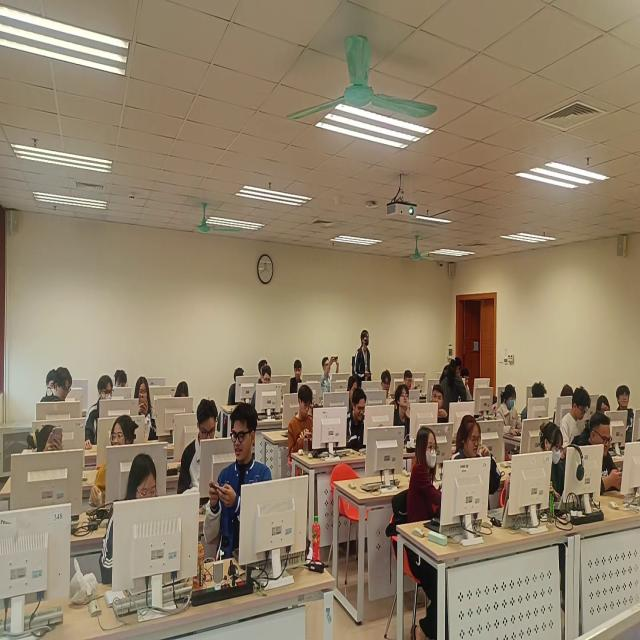raise_head: (408, 427, 442, 523), (617, 386, 636, 444), (394, 386, 411, 443), (382, 370, 395, 406), (291, 360, 304, 393)
stand: (439, 356, 468, 402), (353, 330, 373, 382)
using_computer: (101, 454, 161, 589), (450, 415, 502, 512), (179, 400, 222, 508), (540, 423, 568, 504), (86, 374, 114, 451), (561, 387, 592, 452), (497, 384, 524, 440), (347, 388, 368, 452), (521, 383, 548, 427), (252, 366, 273, 413), (229, 368, 246, 408), (460, 368, 474, 401), (597, 396, 611, 419), (348, 376, 358, 408), (174, 382, 192, 399), (115, 369, 129, 389), (47, 370, 58, 392), (404, 370, 415, 391)
using_phone: (583, 412, 623, 497), (289, 385, 317, 462), (135, 376, 158, 441), (28, 425, 64, 454), (320, 356, 341, 403)
